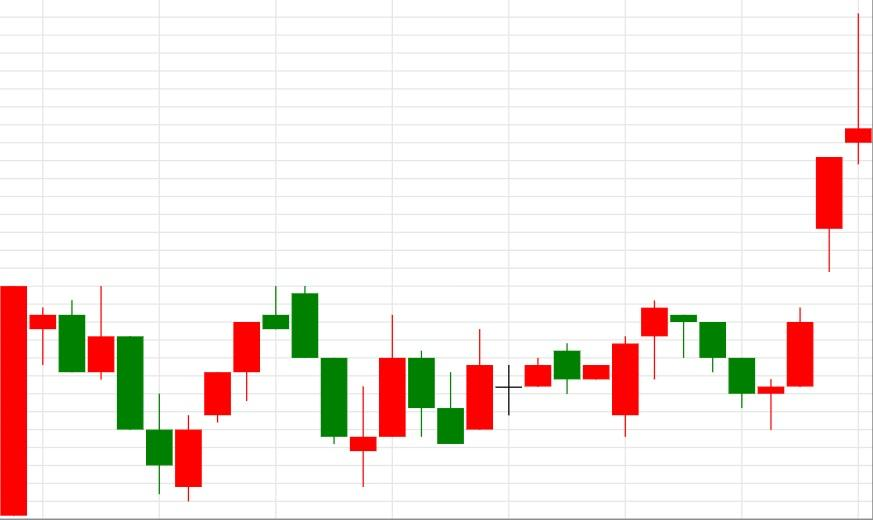morning_star_rise: (262, 285, 407, 488)
three_black_crows_fall: (611, 300, 756, 437)
three_white_soldiers_rise: (0, 286, 261, 517)
